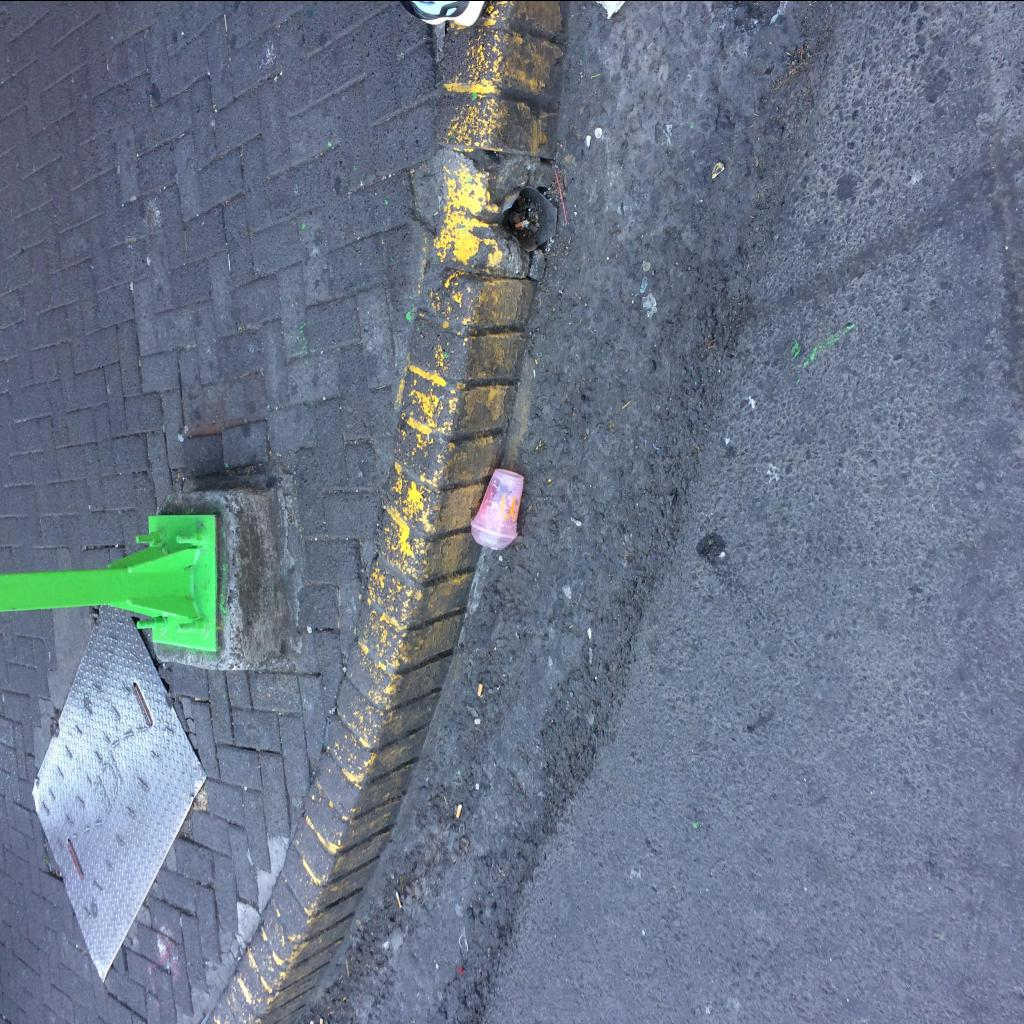Cigarette: (454, 804, 462, 818), (514, 220, 528, 228), (395, 890, 401, 907), (476, 682, 482, 696)
Disposable plastic cup: (470, 467, 524, 549)
Plastic lid: (470, 522, 516, 548)
